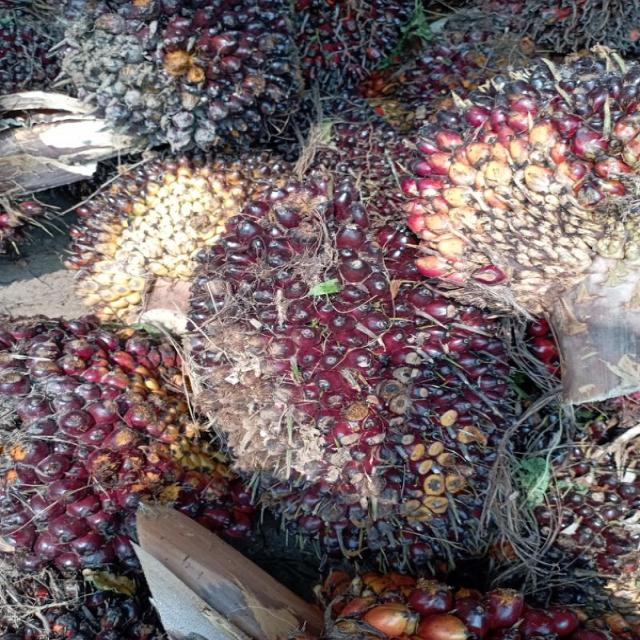fraksi 00: (376, 44, 640, 294), (53, 0, 311, 149)
fraksi 1: (172, 170, 541, 510), (0, 311, 259, 631)
